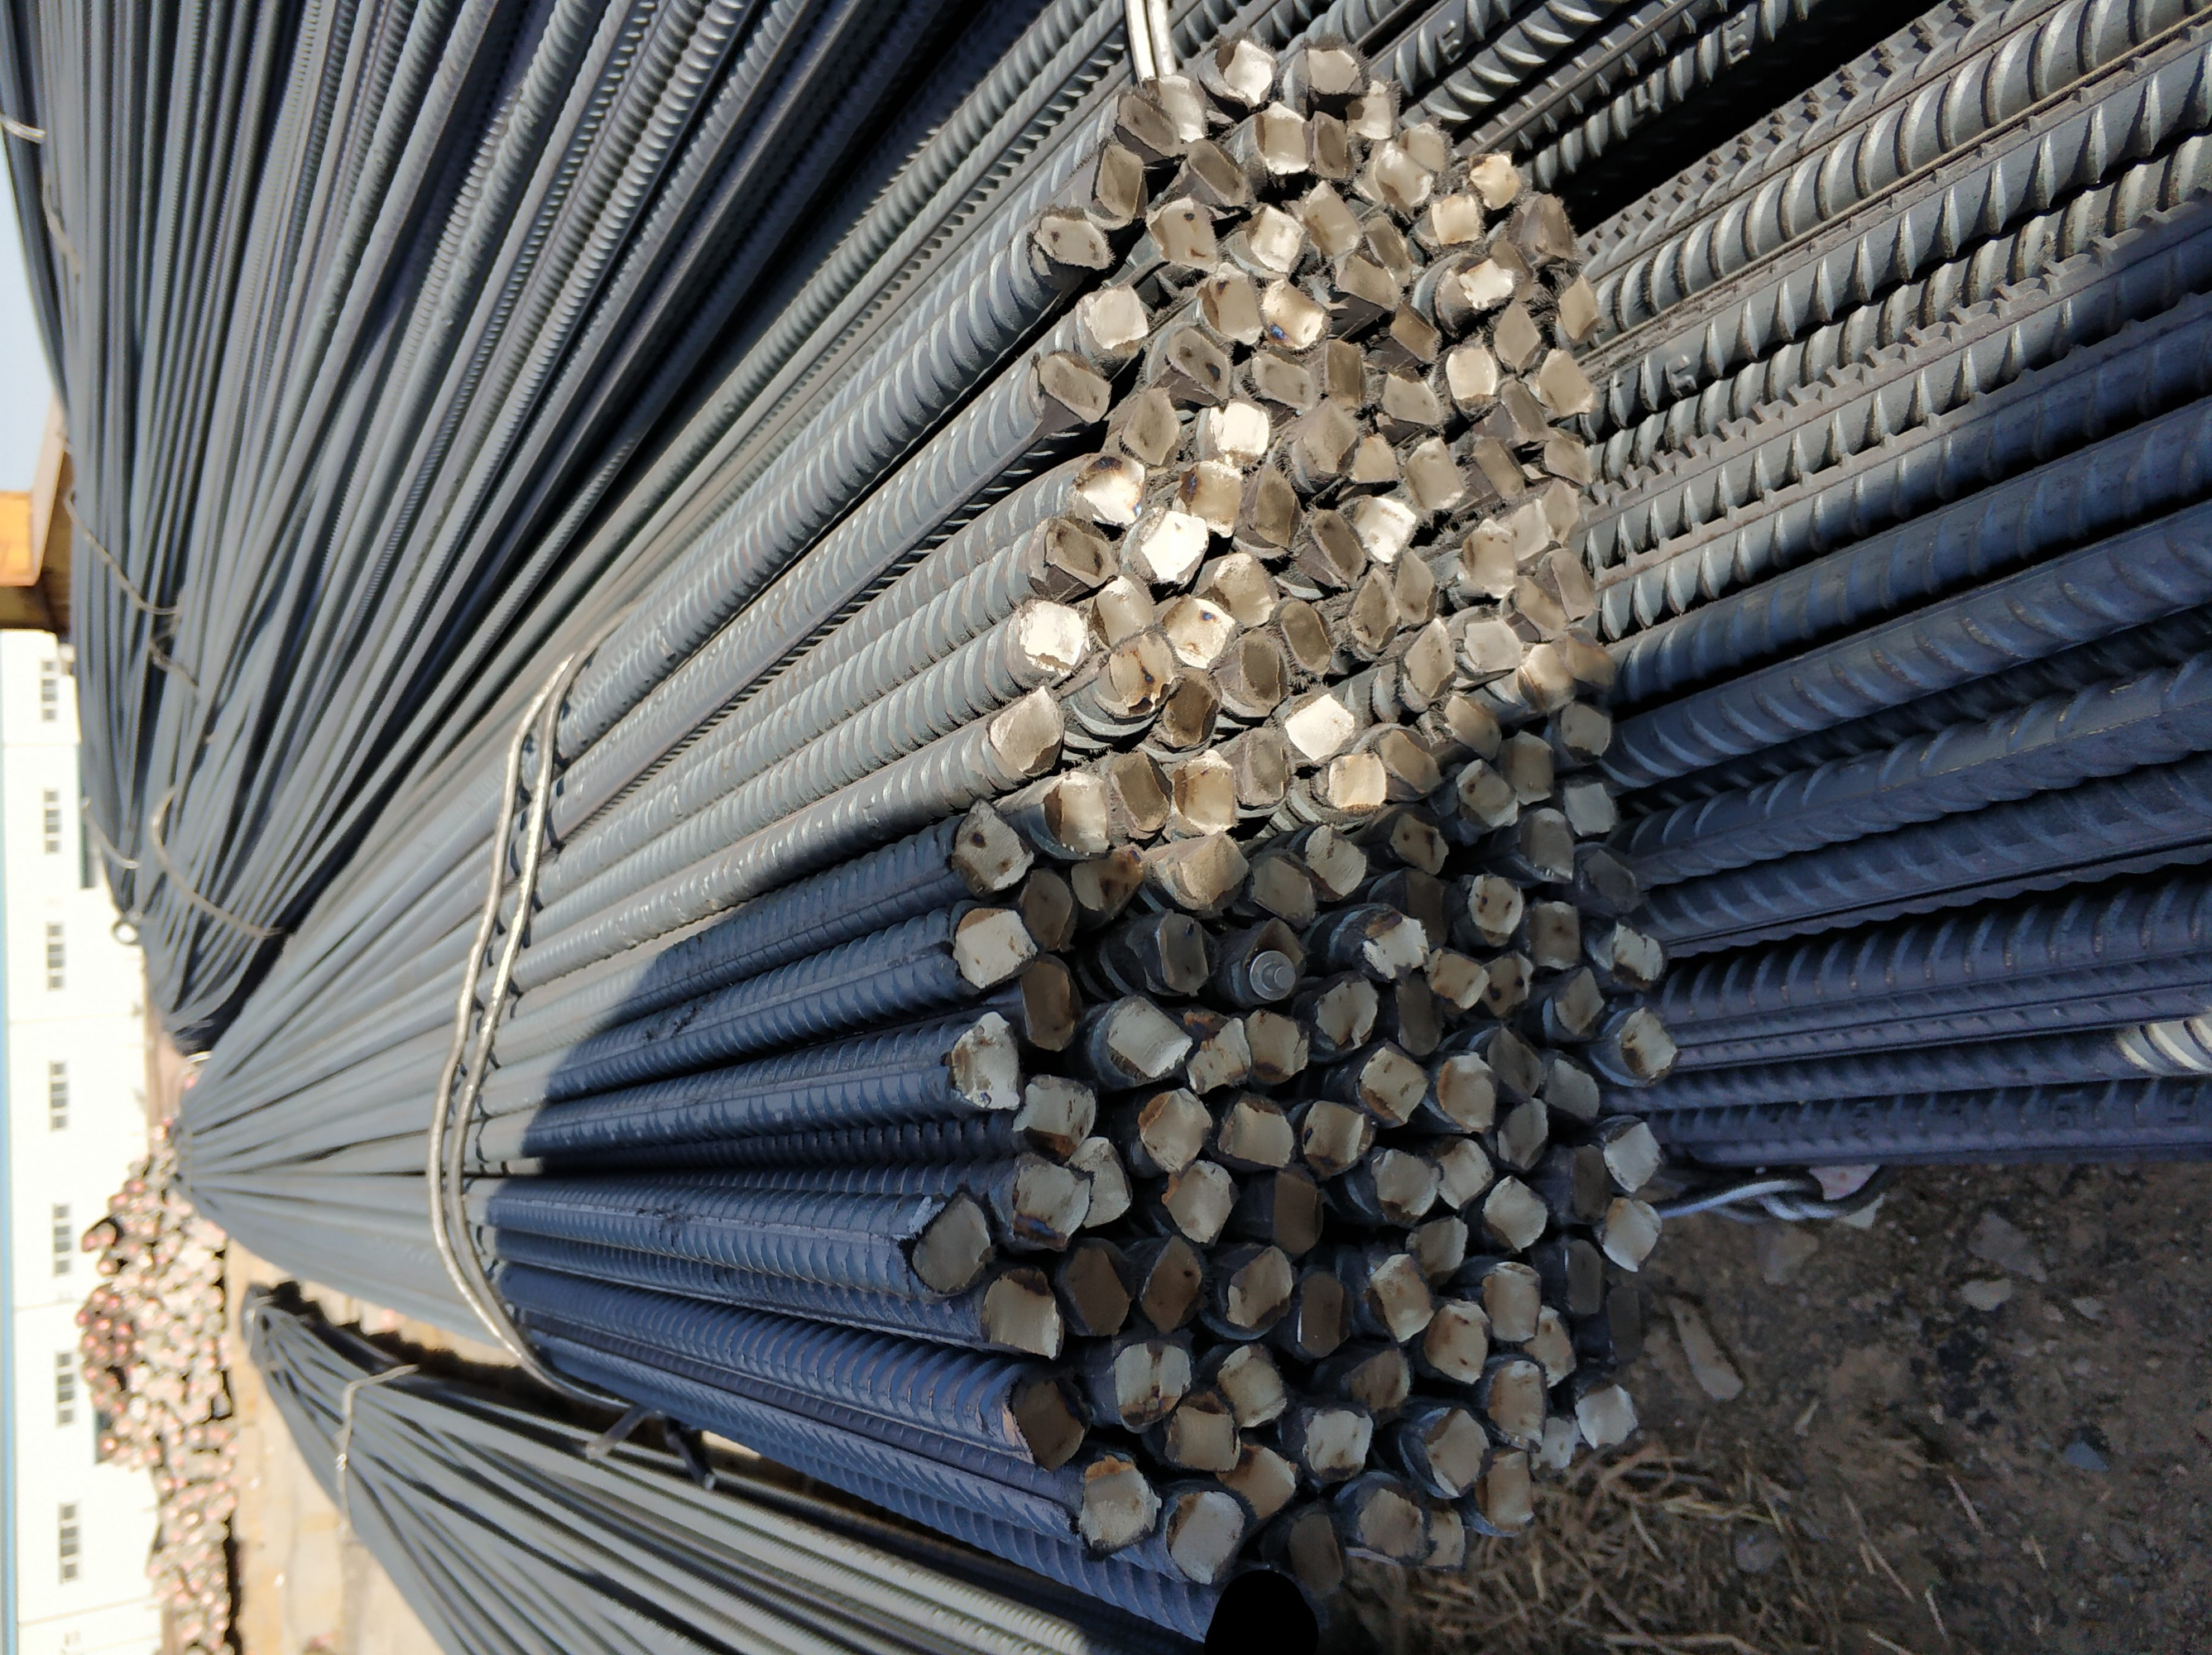rebar: (907, 1184, 994, 1299), (1107, 1333, 1194, 1436), (1076, 1455, 1162, 1558), (949, 793, 1037, 892), (1162, 1486, 1251, 1582), (1010, 1151, 1095, 1250), (978, 1264, 1065, 1359), (983, 680, 1067, 779), (949, 904, 1039, 993), (949, 1008, 1025, 1113), (1011, 1377, 1088, 1476), (1011, 1069, 1100, 1154), (1213, 1434, 1301, 1519), (1056, 1241, 1133, 1339), (1159, 1158, 1242, 1245), (1107, 994, 1192, 1078), (1062, 1133, 1135, 1231), (1020, 949, 1088, 1053), (1216, 1340, 1293, 1432), (1421, 1300, 1496, 1394), (1138, 1233, 1208, 1333), (1300, 1095, 1381, 1179), (1138, 1083, 1211, 1175), (1364, 1250, 1435, 1344), (1298, 1398, 1376, 1483), (1282, 1505, 1352, 1601), (1423, 1406, 1493, 1500), (1039, 768, 1112, 857), (1037, 511, 1119, 589), (1161, 322, 1237, 405), (1215, 1093, 1298, 1170), (1371, 1144, 1446, 1229), (1482, 1354, 1550, 1448), (1036, 348, 1116, 426), (1159, 593, 1237, 673), (1263, 1166, 1329, 1260), (1357, 1043, 1430, 1127), (1138, 506, 1213, 586), (1248, 850, 1321, 932), (1237, 1005, 1310, 1087), (1355, 1485, 1428, 1566), (1107, 624, 1178, 708), (1154, 906, 1218, 998), (1475, 1443, 1540, 1535), (1242, 914, 1312, 1000), (1199, 551, 1275, 628), (1169, 829, 1248, 904), (1229, 1243, 1293, 1333), (1109, 746, 1175, 833), (1077, 449, 1149, 528), (1614, 1005, 1684, 1087), (1300, 819, 1368, 902), (1484, 1172, 1552, 1255), (1345, 490, 1421, 563), (1162, 1403, 1241, 1474), (1371, 723, 1442, 801), (1361, 904, 1430, 984), (1338, 1347, 1418, 1417), (1293, 1267, 1352, 1361), (1599, 1193, 1665, 1276), (1089, 137, 1154, 223), (1480, 1260, 1545, 1346), (1150, 193, 1222, 269), (1173, 455, 1239, 537), (1017, 864, 1077, 953), (1178, 753, 1242, 836), (1519, 1306, 1583, 1389), (1498, 725, 1562, 808), (1437, 1050, 1500, 1135), (1067, 845, 1143, 914), (1399, 615, 1460, 702), (1185, 1014, 1251, 1093), (1404, 435, 1468, 516), (1343, 563, 1402, 652), (1573, 1377, 1644, 1450), (1213, 35, 1281, 111), (1394, 866, 1454, 951), (1456, 756, 1522, 834), (1458, 518, 1520, 600), (1143, 73, 1216, 143), (1114, 87, 1187, 156), (1260, 276, 1329, 349), (1310, 975, 1380, 1048), (1036, 205, 1114, 269), (1117, 386, 1180, 466), (1093, 568, 1156, 648), (1301, 177, 1362, 259), (1308, 506, 1369, 588), (1246, 346, 1319, 414), (1020, 595, 1088, 668), (1161, 669, 1220, 751), (1580, 840, 1644, 914), (1253, 99, 1315, 176), (1298, 398, 1359, 476), (1434, 1137, 1494, 1215), (1275, 596, 1334, 676), (1418, 1499, 1477, 1579), (1185, 137, 1253, 207), (1288, 687, 1352, 760), (1251, 462, 1305, 549), (1373, 136, 1435, 210), (1519, 636, 1580, 713), (1496, 1093, 1555, 1172), (1081, 282, 1149, 349), (1440, 690, 1507, 760), (1602, 1118, 1666, 1189), (1534, 346, 1597, 419), (1526, 897, 1585, 974), (1456, 607, 1522, 675), (1489, 296, 1545, 376), (1242, 198, 1303, 271), (1508, 572, 1567, 647), (1560, 1140, 1614, 1222), (1388, 972, 1442, 1053), (1237, 624, 1289, 708), (1421, 946, 1491, 1008), (1546, 546, 1602, 624), (1334, 249, 1406, 309), (1404, 1213, 1468, 1279), (1479, 947, 1540, 1017), (1609, 918, 1670, 987), (1239, 725, 1289, 808), (1324, 751, 1390, 814), (1387, 810, 1449, 876), (1361, 212, 1414, 289), (1213, 269, 1267, 346), (1524, 1413, 1583, 1483), (1305, 104, 1357, 183), (1489, 1026, 1545, 1099), (1204, 396, 1270, 457), (1559, 695, 1618, 763), (1496, 499, 1555, 567), (1527, 807, 1580, 883), (1498, 377, 1555, 447), (1526, 189, 1581, 261), (1315, 334, 1369, 407), (1602, 1281, 1649, 1365), (1543, 1055, 1602, 1121), (1472, 433, 1529, 501), (1305, 42, 1371, 99), (1470, 873, 1524, 942), (1560, 775, 1621, 836), (1341, 71, 1395, 139), (1446, 344, 1501, 409), (1564, 624, 1616, 692), (1489, 235, 1541, 302), (1538, 473, 1585, 548), (1552, 965, 1602, 1034), (1427, 191, 1486, 250), (1381, 372, 1442, 429), (1553, 273, 1602, 344), (1562, 1238, 1607, 1314), (1387, 299, 1439, 365), (1454, 256, 1515, 311), (1467, 151, 1522, 212), (1347, 428, 1401, 489), (1541, 433, 1595, 487)
